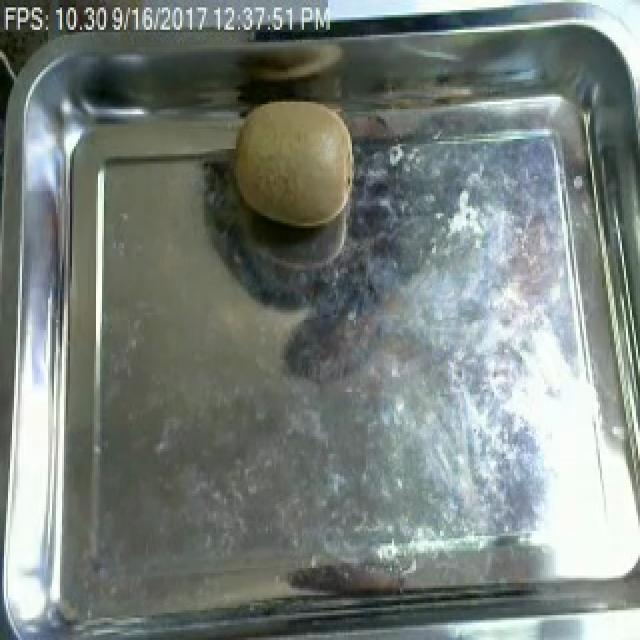Fruit: (224, 87, 366, 236)
